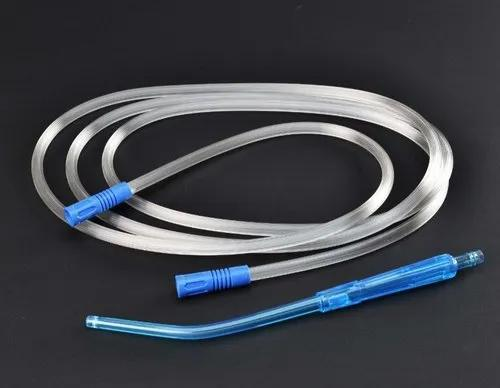Suction Tube Nozzle: (27, 76, 488, 347)
